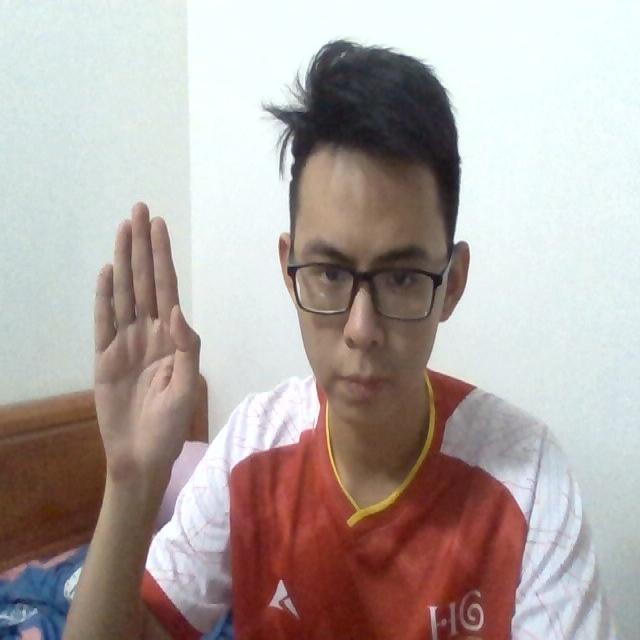B: (88, 195, 203, 462)
